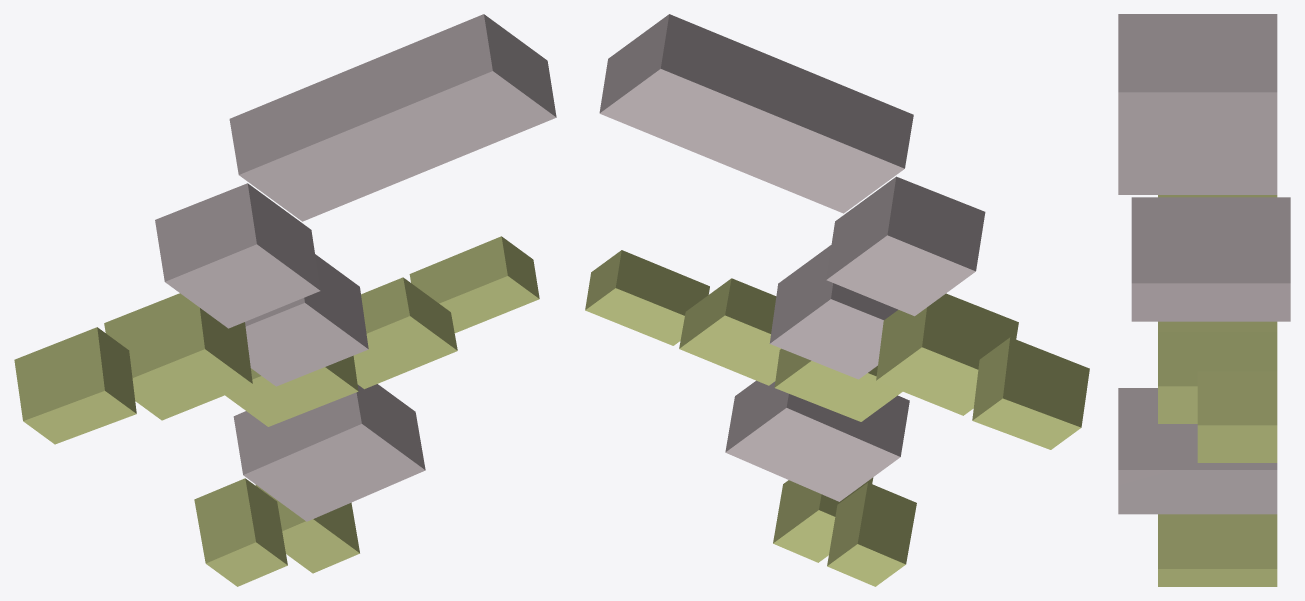
3 views of the same model, side by side, from view 1: azimuth 30°, elevation 25°; view 2: azimuth 150°, elevation 25°; view 3: azimuth 270°, elevation 25° (orthographic). The views are drawn at different scales.
Visible parts, largest first — view 1: 0_1_2_3_3_3_3_3_0; view 2: 0_1_2_3_3_3_3_3_0; view 3: 0_1_2_3_3_3_3_3_0.
Part boxes in pixels (box(x1,y1,x2,y2)): 0_1_2_3_3_3_3_3_0: box(14, 14, 556, 586); 0_1_2_3_3_3_3_3_0: box(585, 14, 1089, 586); 0_1_2_3_3_3_3_3_0: box(1118, 14, 1290, 586).
Size of the model in its own units: 53.63 by 50.03 by 13.01.
